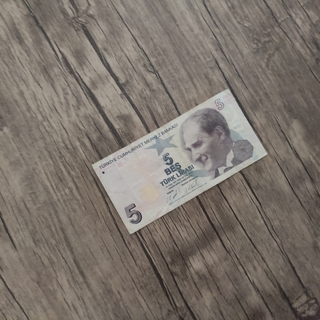5TLFront: (91, 87, 269, 235)
